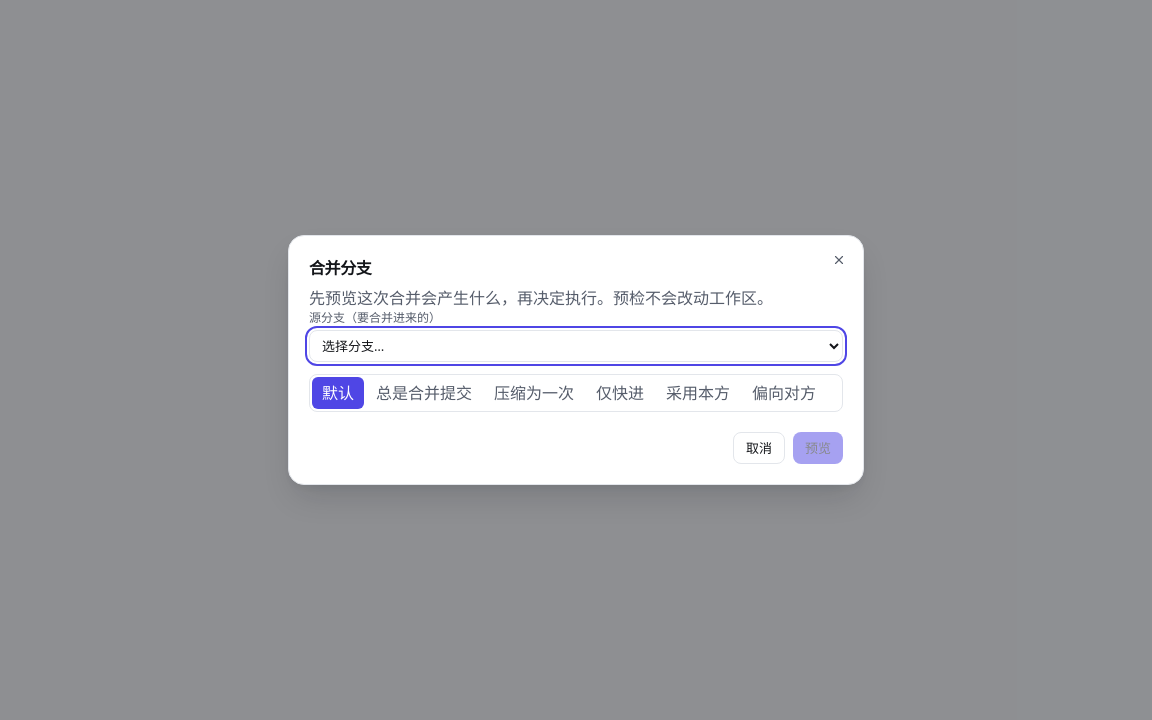
Scenario: MergeDialog › 选源分支后预览，计划展示裁决、提交清单与等价命令
Select "feature" in the dropdown with test id "merge-source" at (576, 346), box [309,330,843,362]
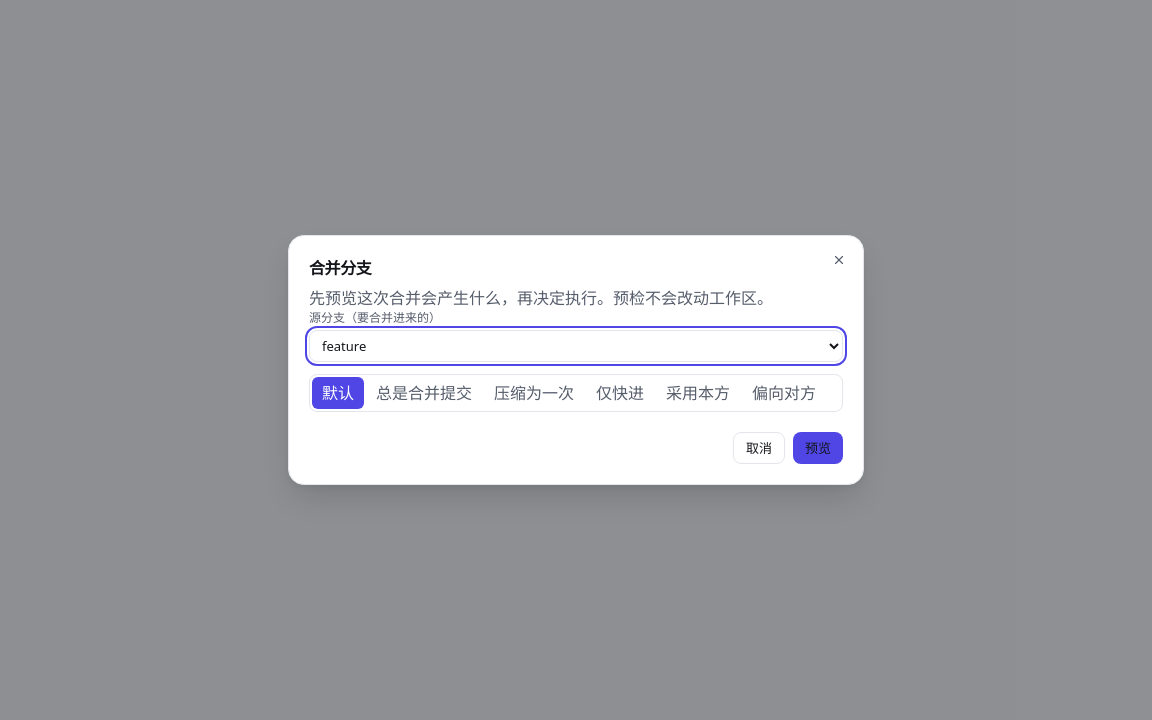
Click the button with test id "merge-preview".
click(818, 448)  # box [793,432,843,464]
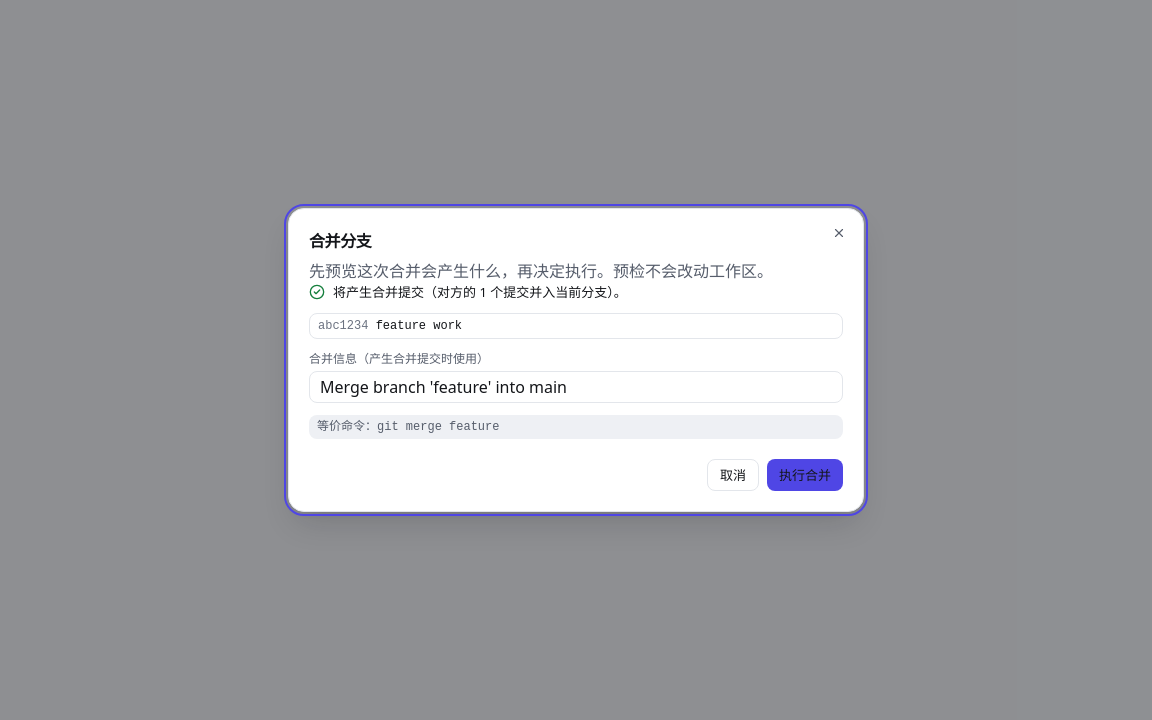
Expected: the element with test id "merge-plan" is shown, [309,283,843,439]
Expected: the text "将产生合并提交（对方的 1 个提交并入当前分支）。" is shown, [309,283,627,301]
Expected: the text "feature work" is shown, [376,319,462,333]
